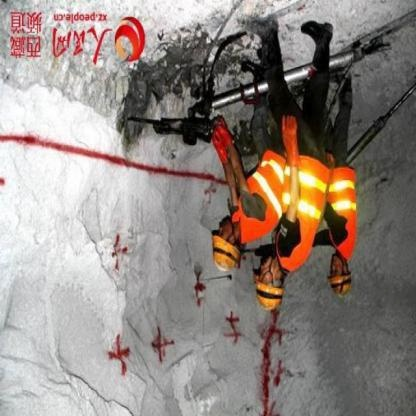vest: (278, 150, 329, 276), (231, 146, 295, 245), (324, 162, 362, 264)
yellow: (205, 232, 246, 273), (250, 273, 291, 313), (329, 274, 358, 298)
